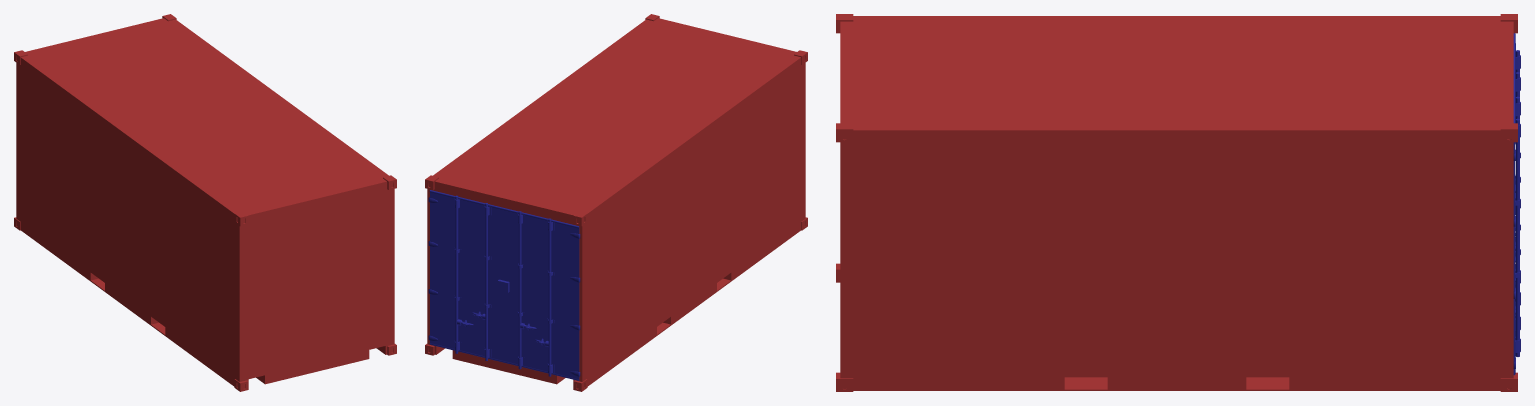
File: Container 20ft_LP_UV_v01.fbx
The picture shows the model from 3 angles, left to right: view 1: azimuth 30°, elevation 25°; view 2: azimuth 150°, elevation 25°; view 3: azimuth 270°, elevation 25°; orthographic projection. The views are drawn at different scales.
Parts seen in each view (by area): view 1: Container_20ft1, pCube43; view 2: Container_20ft1, pCube6 (×2), pCylinder3 (×2), pCylinder4 (×2), pCube36; view 3: Container_20ft1, pCylinder3, pCube43, pCube36.
Boxes of the visible parts, x1,y1,x2,y2 form: Container_20ft1: (16,18,394,388); pCube43: (234,175,396,391); Container_20ft1: (427,18,805,388); pCube6 (×2): (429,190,579,380); pCylinder3 (×2): (455,195,551,376); pCylinder4 (×2): (485,203,521,369); pCube36: (425,175,587,391); Container_20ft1: (840,16,1513,390); pCylinder3: (1515,118,1519,356); pCube43: (836,14,853,391); pCube36: (1500,14,1517,391).
Bounding box in the file's own units: 2.46 × 2.61 × 6.16.
